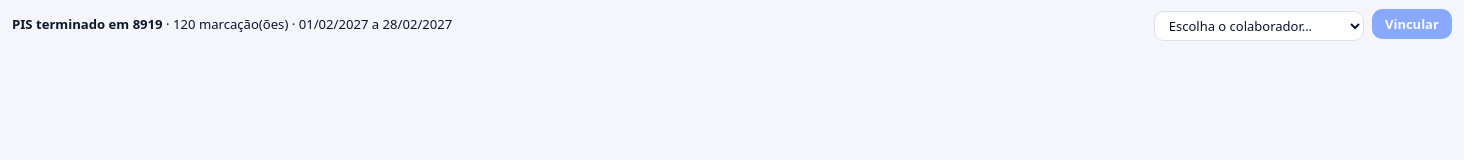
Test: Pendentes › mostra o erro do servidor
The width and height of the screenshot is (1464, 160).
Select "Ana" in the dropdown named "Colaborador do PIS" at (1259,26), box left=1154, top=11, right=1364, bottom=41
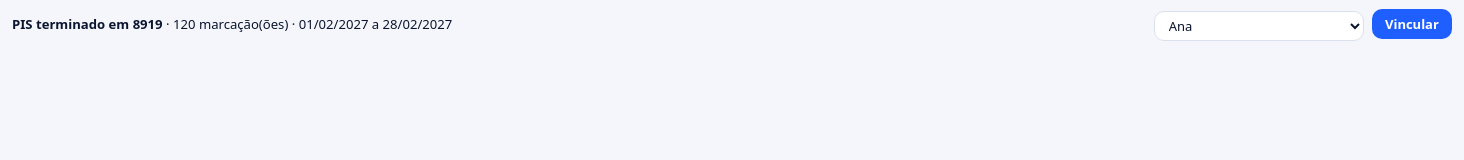
Click the button "Vincular".
click(1412, 24)  # box left=1372, top=9, right=1452, bottom=39
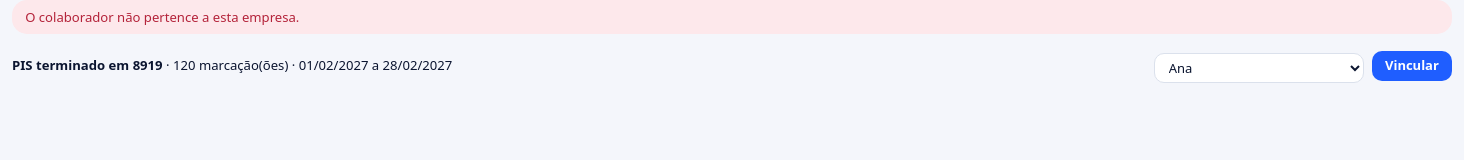
Now the text "O colaborador não pertence a esta empresa." is shown, box left=12, top=0, right=1452, bottom=34
